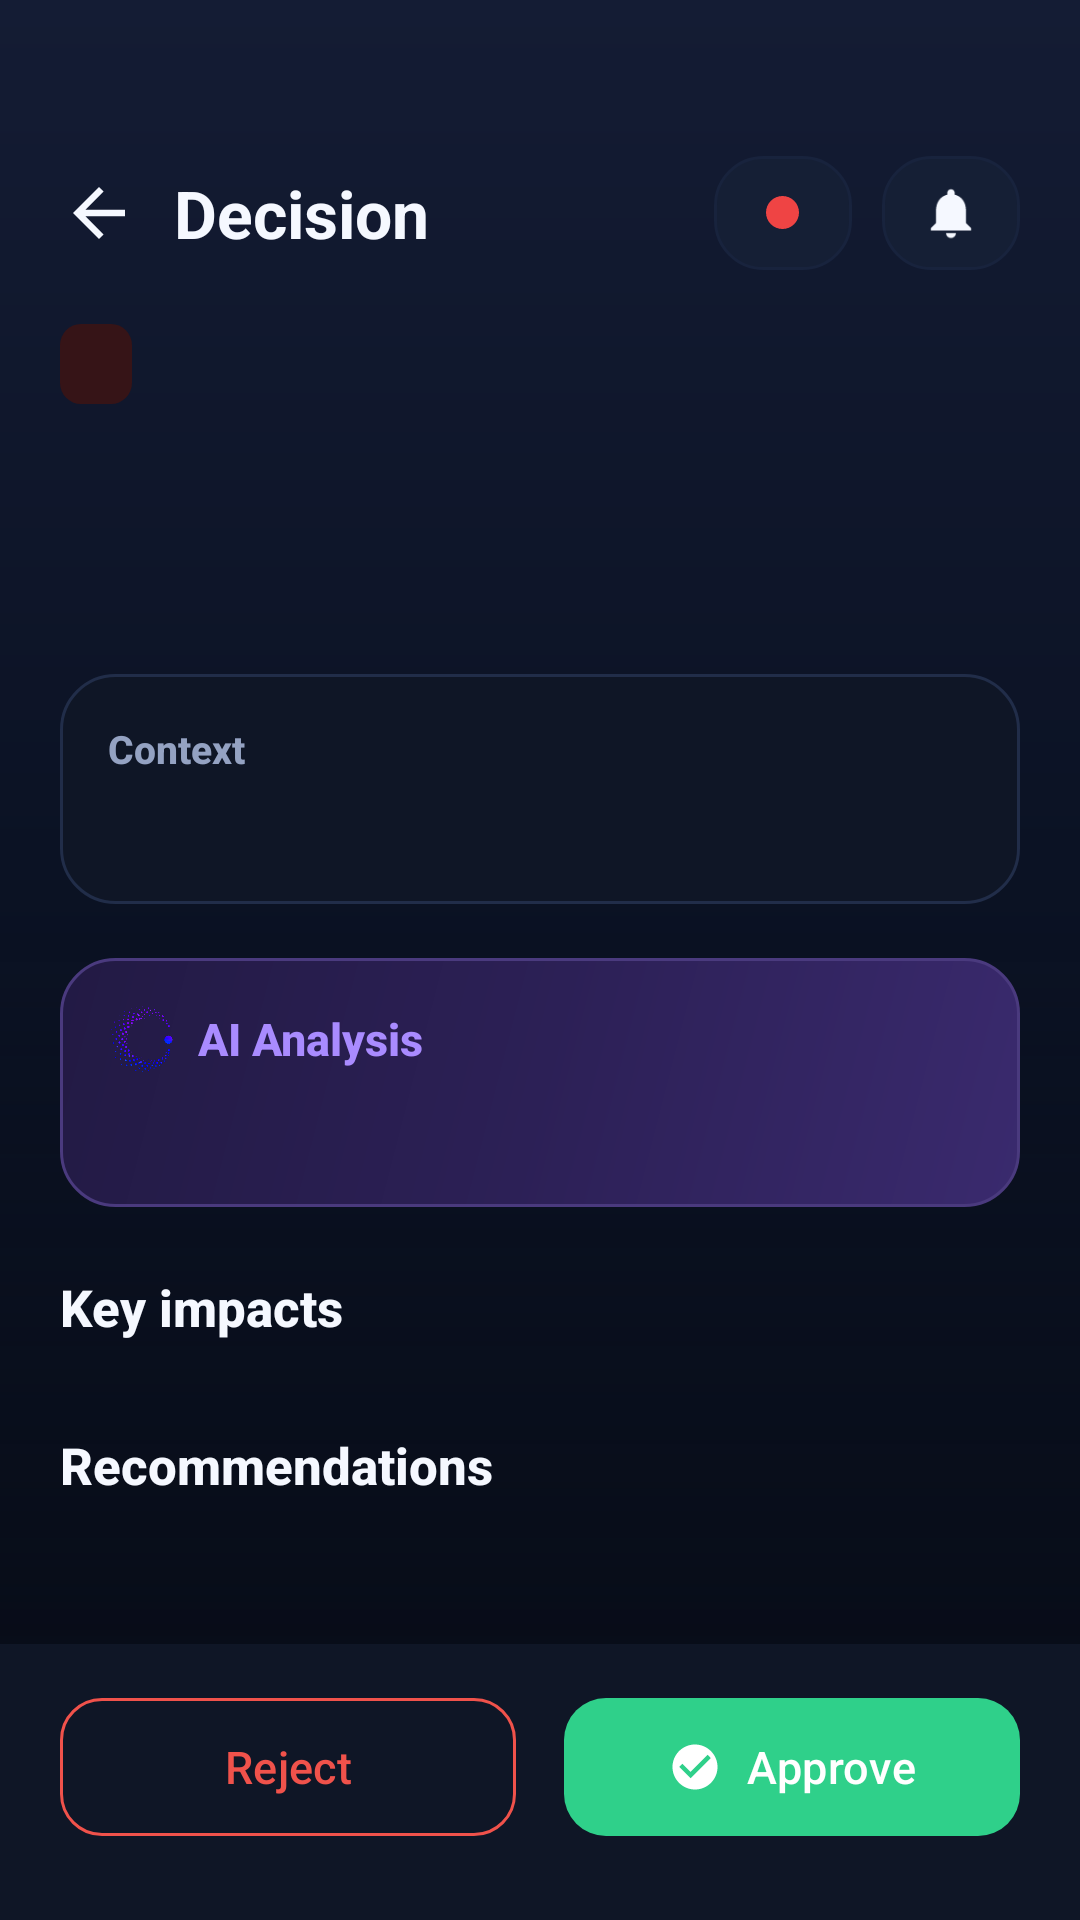

Point at icon controls on the screen. Image size 1080px×1920px, points as [x,y].
arrow back: [99,213]
bell: [951,214]
orphos orb: [142,1039]
